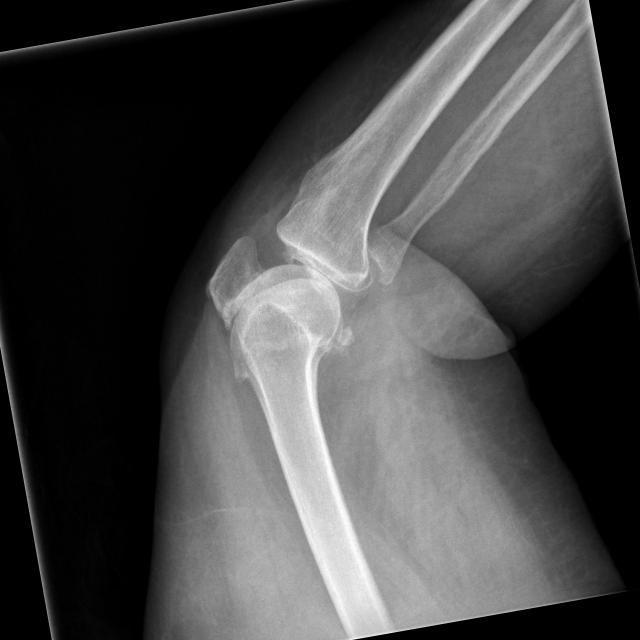Knee: (192, 178, 392, 382)
